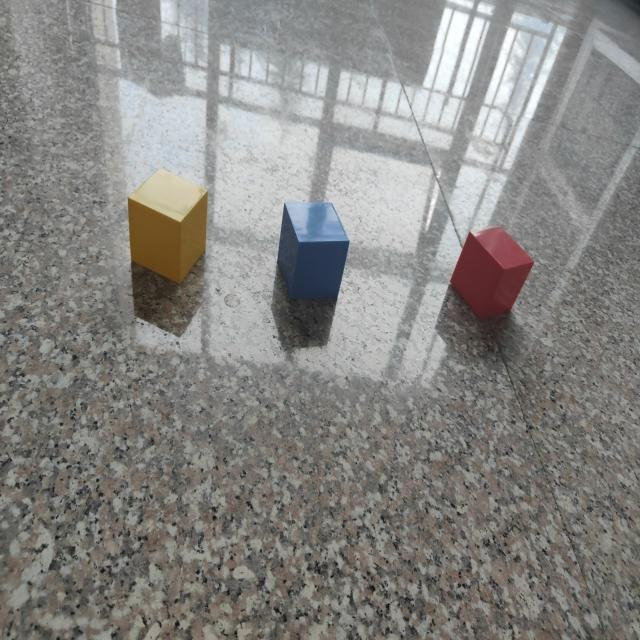blue: (276, 200, 351, 300)
pink: (450, 228, 535, 322)
yellow: (128, 172, 209, 285)
